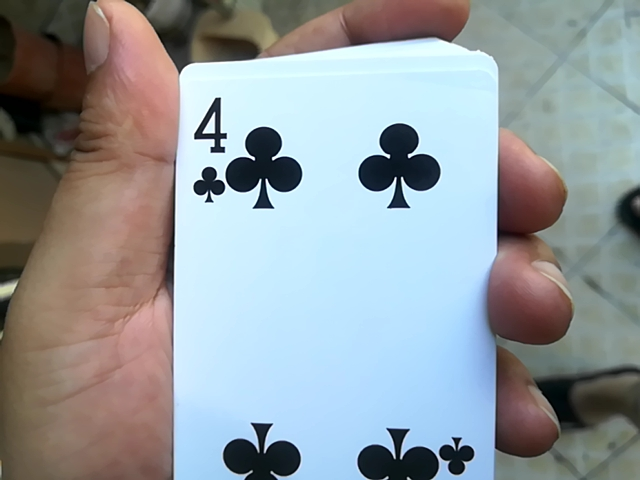mh 4: (163, 41, 486, 479)
